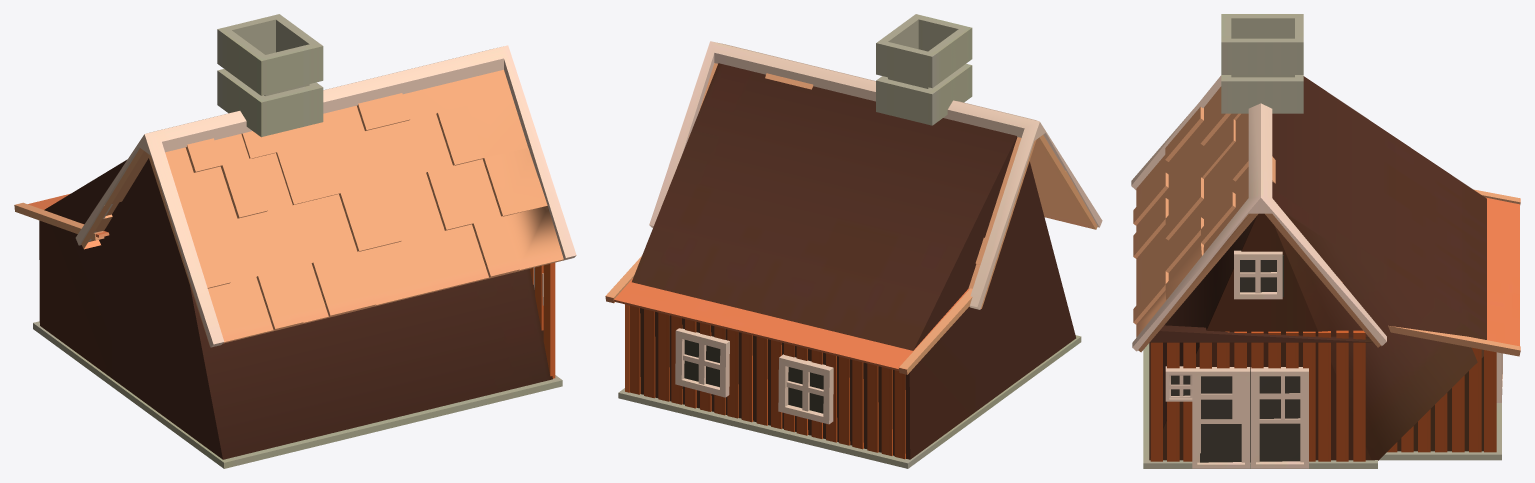
File: home-2.lod.glb
3 views of the same model, side by side, from view 1: azimuth 30°, elevation 25°; view 2: azimuth 150°, elevation 25°; view 3: azimuth 270°, elevation 25° (orthographic). The views are drawn at different scales.
Parts seen in each view (by area): view 1: Object_2; view 2: Object_2; view 3: Object_2.
Boxes of the visible parts, x1,y1,x2,y2 form: Object_2: (14, 14, 576, 468); Object_2: (605, 14, 1102, 468); Object_2: (1131, 14, 1520, 468).
Size of the model in its own units: 6.25 by 5.88 by 6.18.
1 material, 1 textured.
